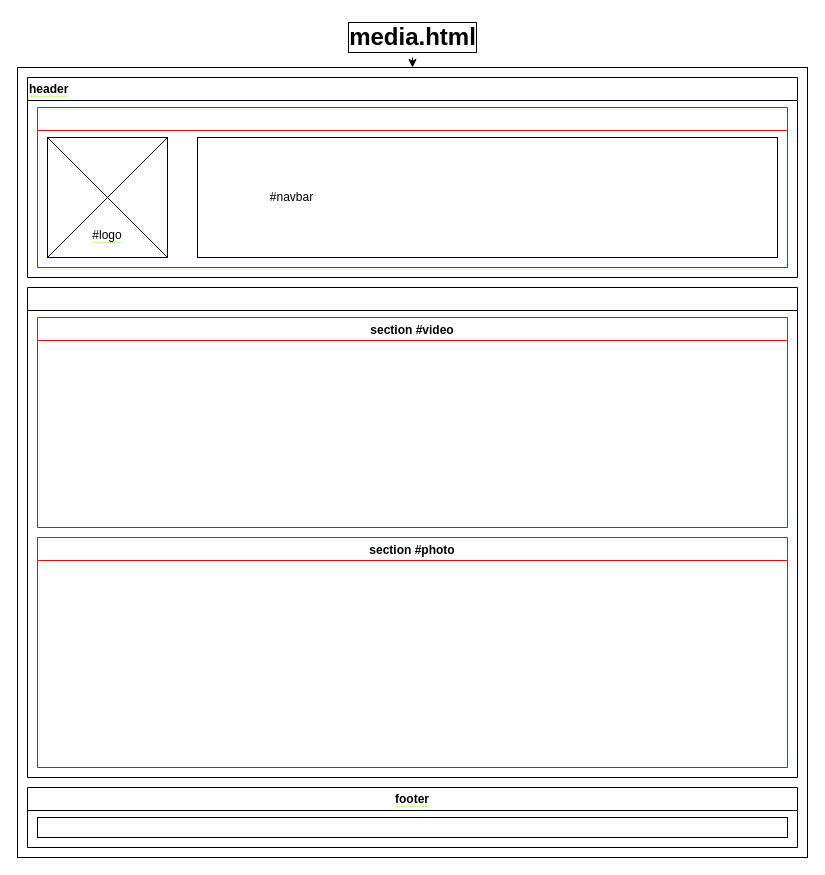
This 825x875 diagram has some shape labels left out. Here are the shapes that lost their labels. From the top down, the box of each, then its label:
(36, 106, 788, 268): nav #menu
(26, 286, 798, 778): main
(36, 816, 788, 838): h3
